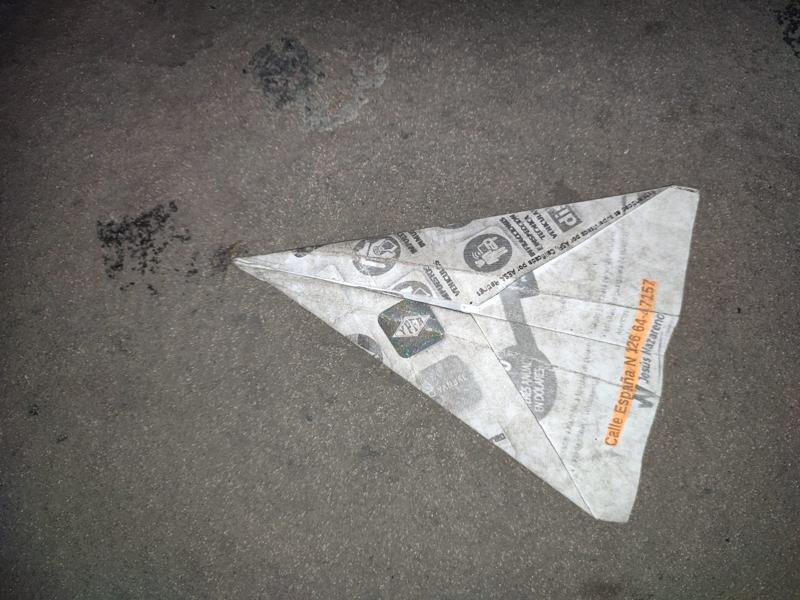papel: (230, 186, 701, 526)
